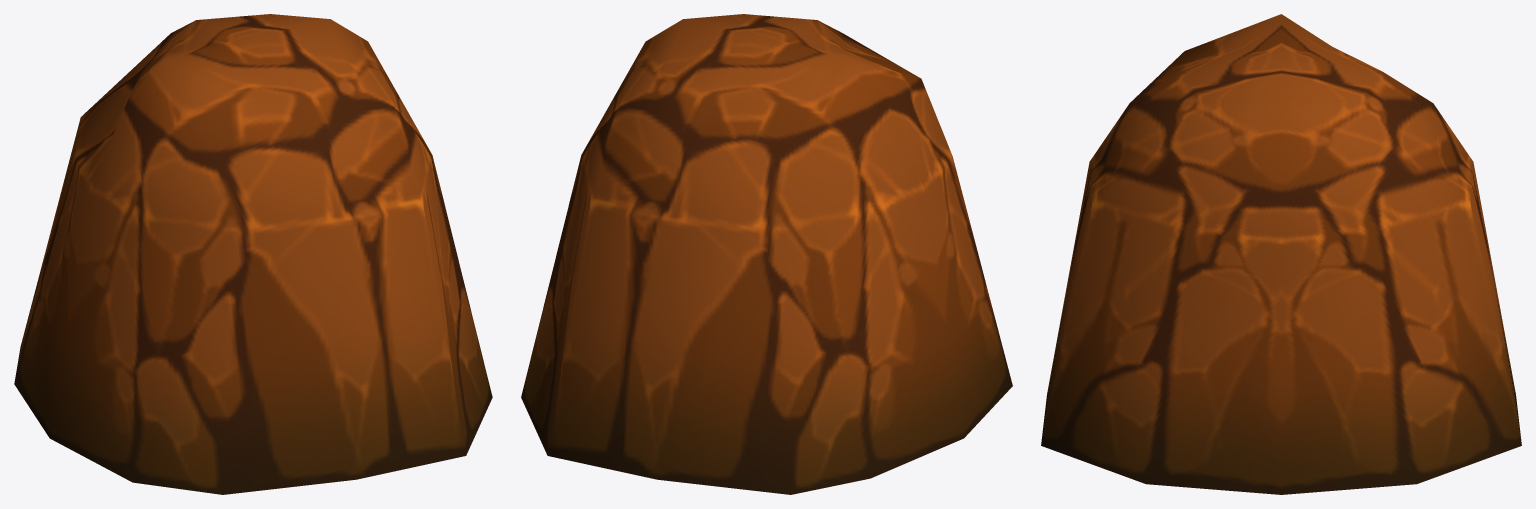
File: Rock_01.FBX
The picture shows the model from 3 angles, left to right: view 1: azimuth 30°, elevation 25°; view 2: azimuth 150°, elevation 25°; view 3: azimuth 270°, elevation 25°; orthographic projection.
Visible parts, largest first — view 1: Rock_01; view 2: Rock_01; view 3: Rock_01.
Part boxes in pixels (x1,y1,x2,y2): Rock_01: [14, 14, 492, 494]; Rock_01: [521, 14, 1012, 494]; Rock_01: [1041, 14, 1521, 494].
Bounding box in the file's own units: 200 × 169 × 213.
